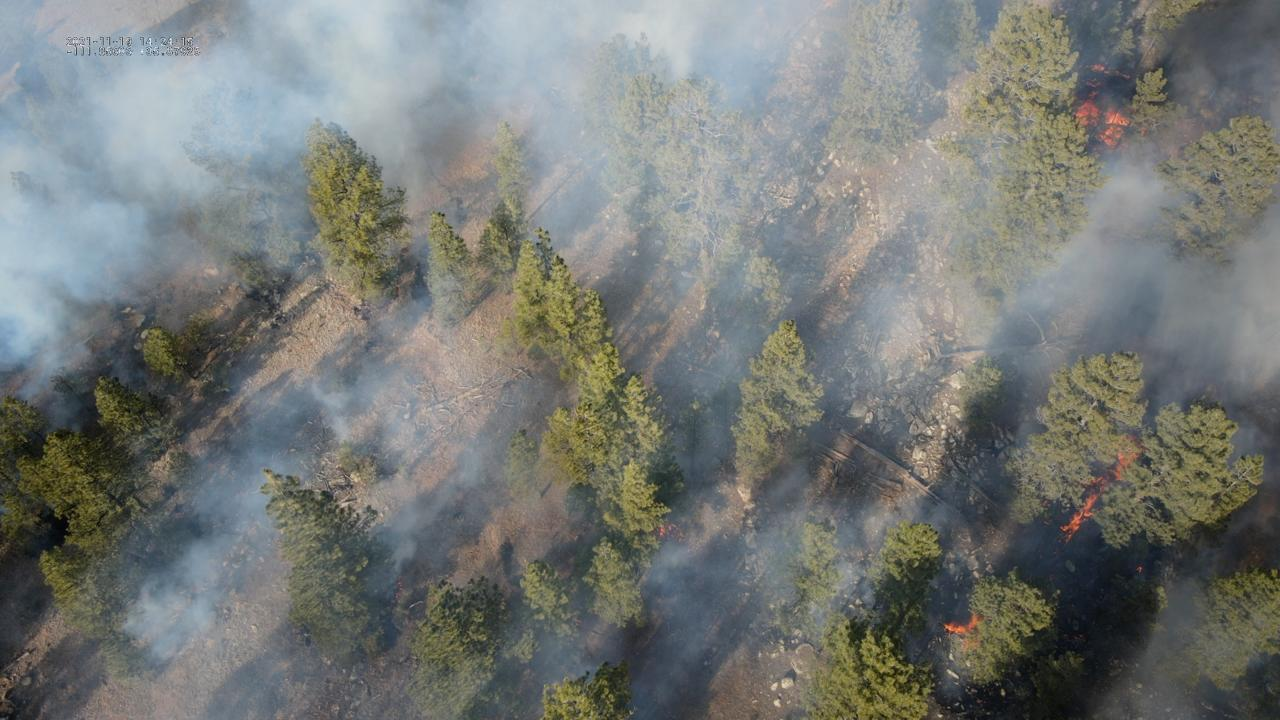fire: (1053, 455, 1130, 541), (1071, 91, 1148, 153), (941, 608, 983, 642), (653, 521, 687, 545), (392, 574, 404, 599), (1089, 62, 1111, 75), (1084, 79, 1101, 88), (1120, 71, 1130, 80)
smoke: (0, 0, 1280, 720), (1093, 577, 1263, 720)
